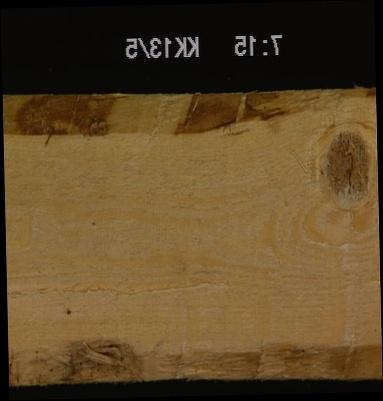small_knot: (64, 304, 74, 318)
sound_knot: (324, 128, 374, 202)
wave: (9, 335, 381, 380), (4, 90, 375, 131)
